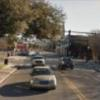cars: (29, 67, 57, 90)
